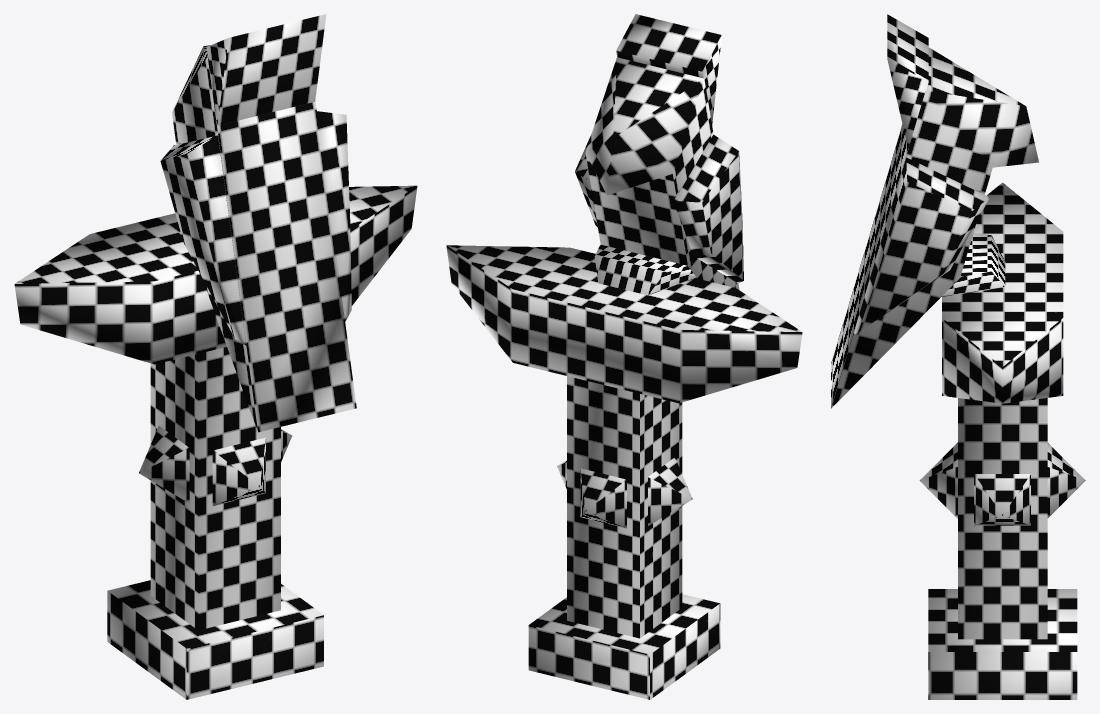
Rendered from stst120.dae.
The picture shows the model from 3 angles, left to right: view 1: azimuth 30°, elevation 25°; view 2: azimuth 150°, elevation 25°; view 3: azimuth 270°, elevation 25°; orthographic projection. The views are drawn at different scales.
Visible parts, largest first — view 1: bird02; view 2: bird02; view 3: bird02.
Part boxes in pixels (x1,y1,x2,y2): bird02: (14,14,417,699); bird02: (446,14,802,699); bird02: (831,14,1085,699).
Size of the model in its own units: 1.97 by 1.15 by 3.15.
Materials: 1 (1 with a texture image).
